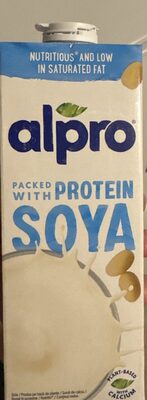Soyamilch: (7, 20, 140, 380)
